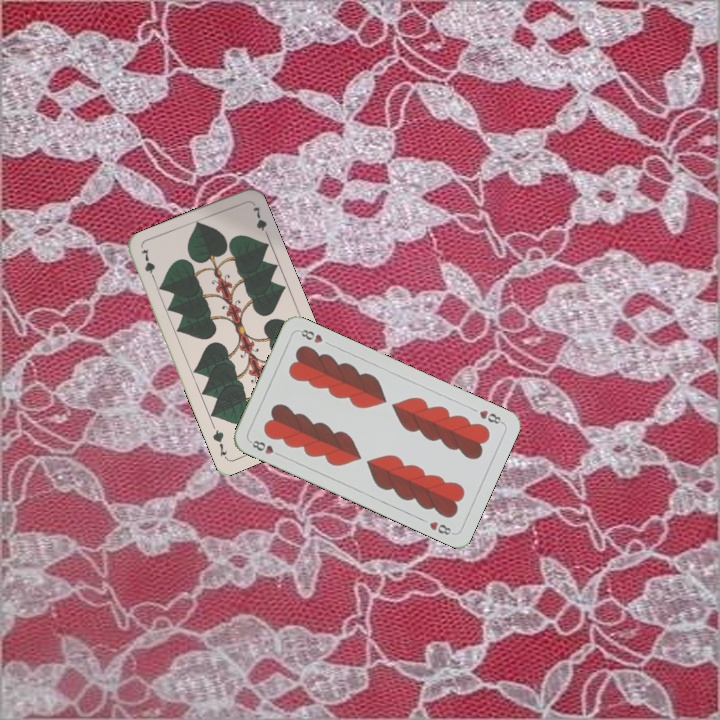G7: (137, 244, 159, 285)
H8: (246, 436, 284, 459), (475, 406, 506, 427)
